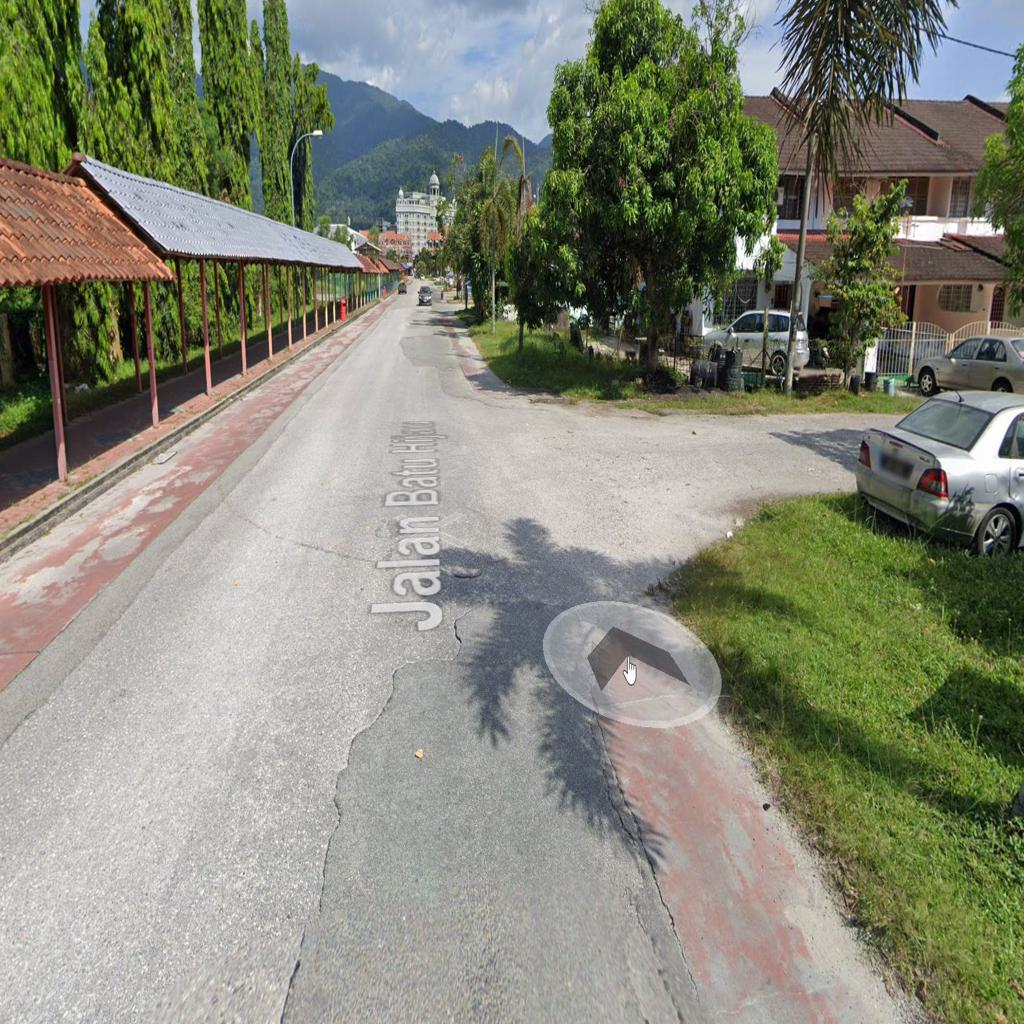Junction: (456, 339, 865, 628)
